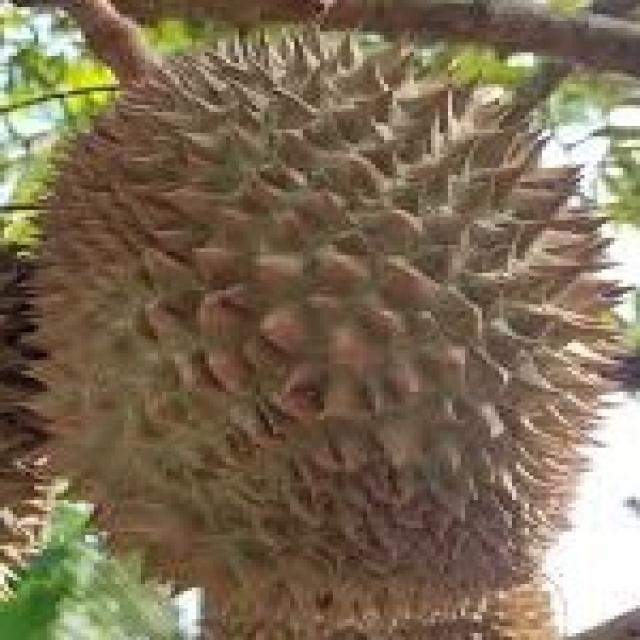mature: (35, 36, 613, 612)
